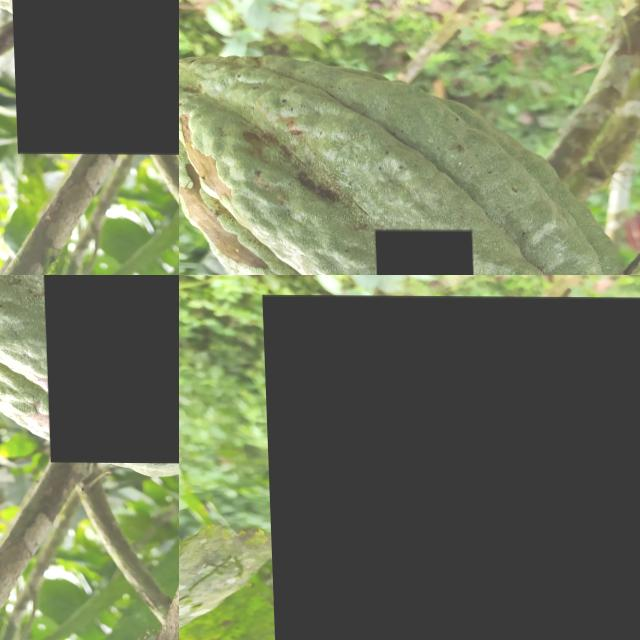Monilia: (1, 0, 179, 154), (37, 275, 179, 463)
Sana: (261, 294, 640, 640), (243, 183, 359, 275), (346, 154, 425, 275), (253, 79, 318, 190), (373, 228, 472, 275), (232, 60, 284, 113), (224, 224, 262, 251)
